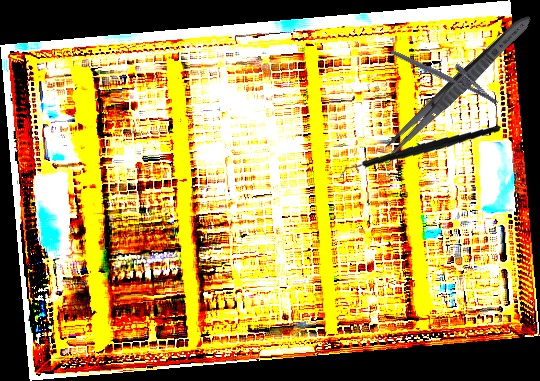Chopper: (336, 111, 501, 196)
Dressing Forceps: (376, 9, 537, 166)
Needle Holder: (390, 35, 506, 106)
